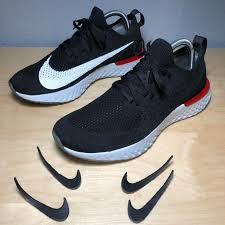nike: (29, 18, 143, 103), (26, 137, 98, 195), (125, 168, 192, 225), (9, 170, 78, 225), (110, 150, 184, 196)
